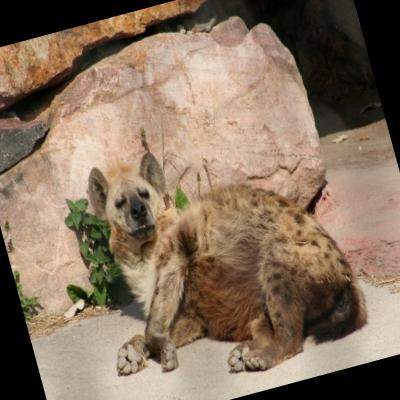hyenas: (61, 85, 400, 400)
